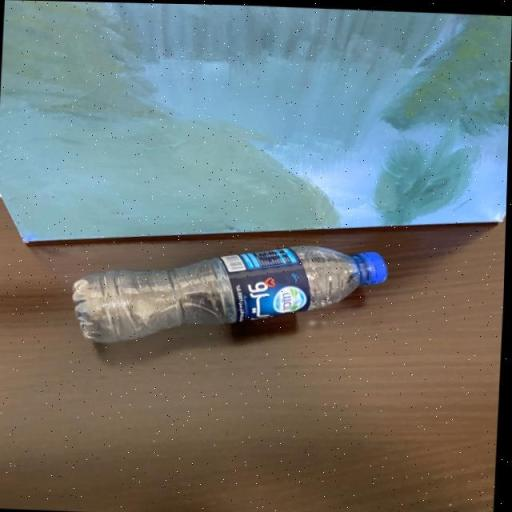plastic: (63, 234, 398, 356)
